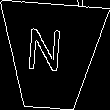N_S: (32, 30, 72, 83)
